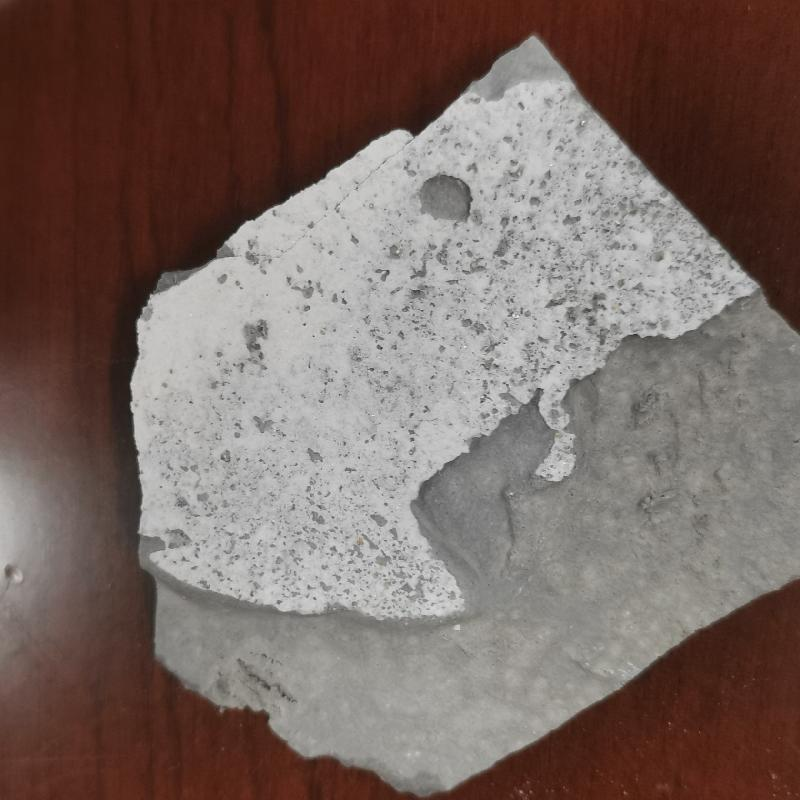tile: (129, 31, 799, 799)
